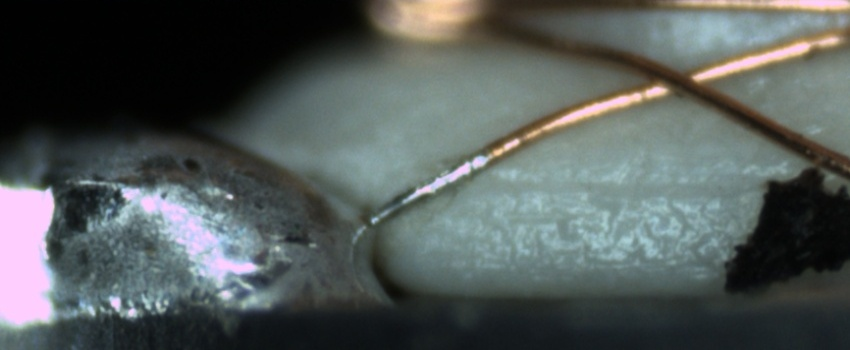CL: (629, 52, 726, 104)
DL: (439, 154, 775, 215)
TS: (367, 153, 488, 231)
TTCW: (367, 108, 565, 228)
